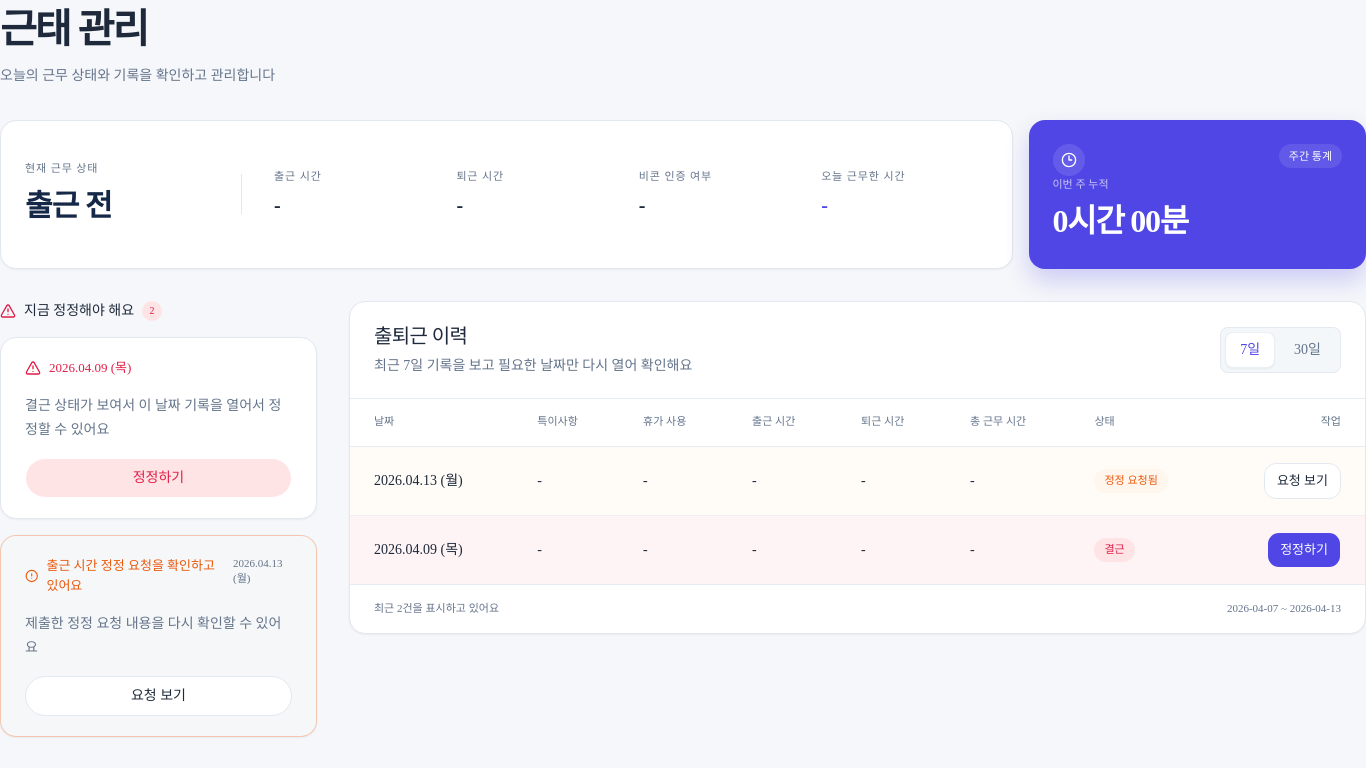
Test: AttendancePageClient › restores the correction CTA after withdrawing a pending request and refetching current session data
Click the button "요청 보기" below "제출한 정정 요청 내용을 다시 확인할 수 있어요": (158, 696) [25,676,292,716]
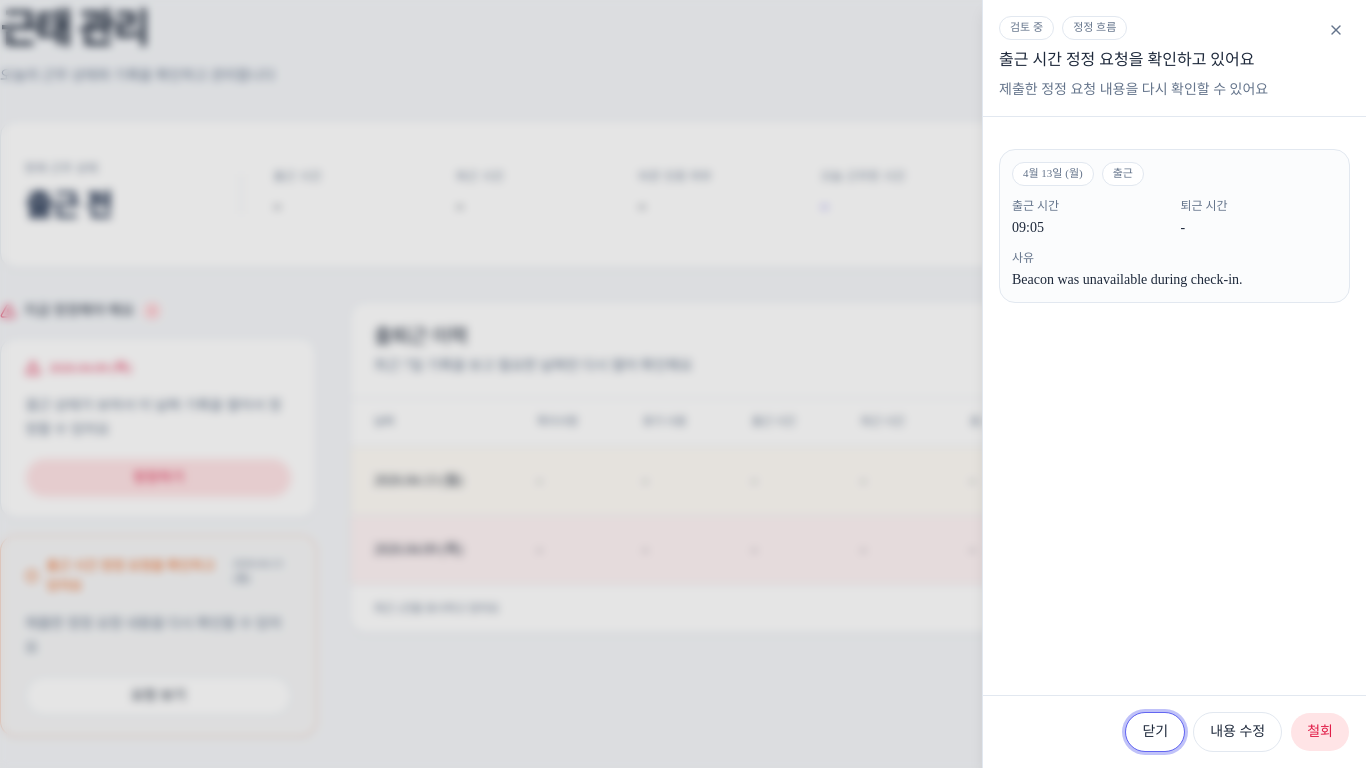
Click the button "철회": (1320, 732) [1290,712,1350,752]
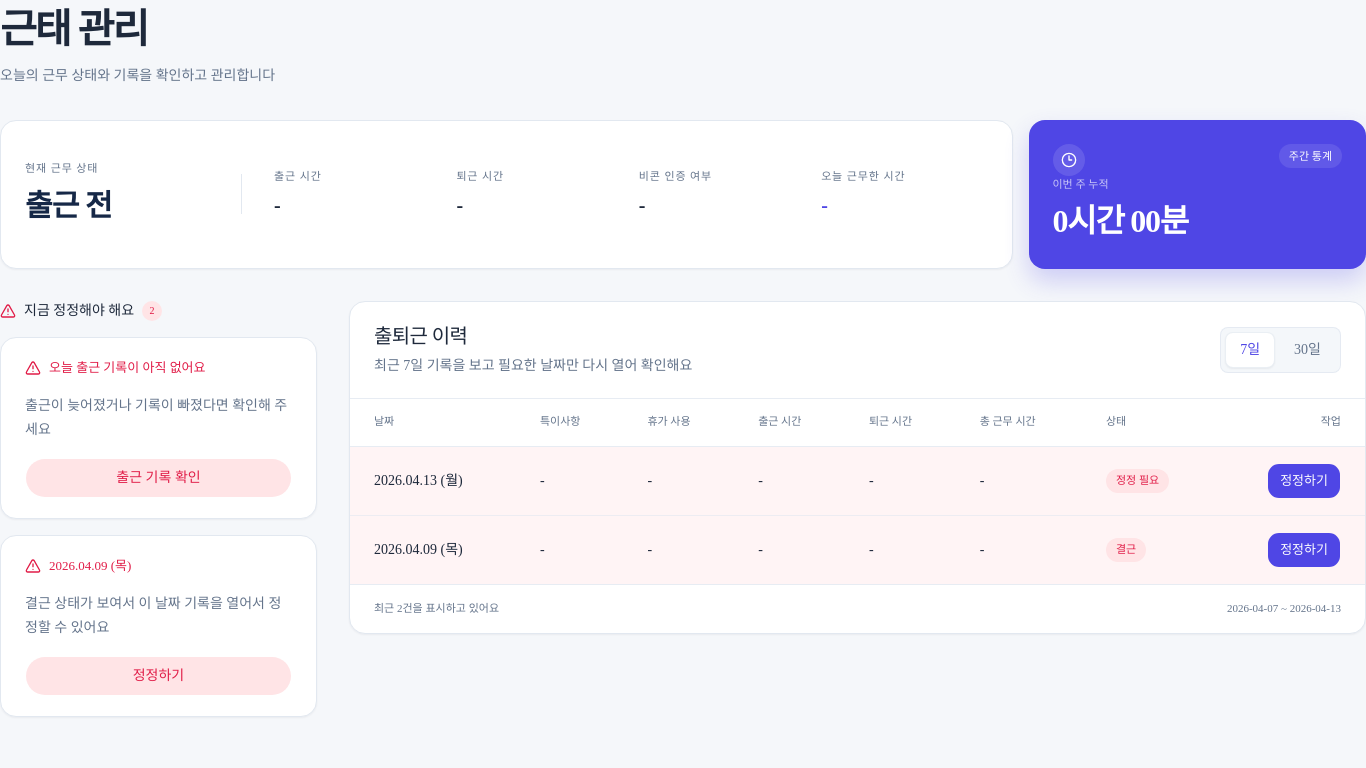
Expected: the button "출근 기록 확인" is shown, [25,458,292,498]
Expected: the text "정정 요청됨" is gone
